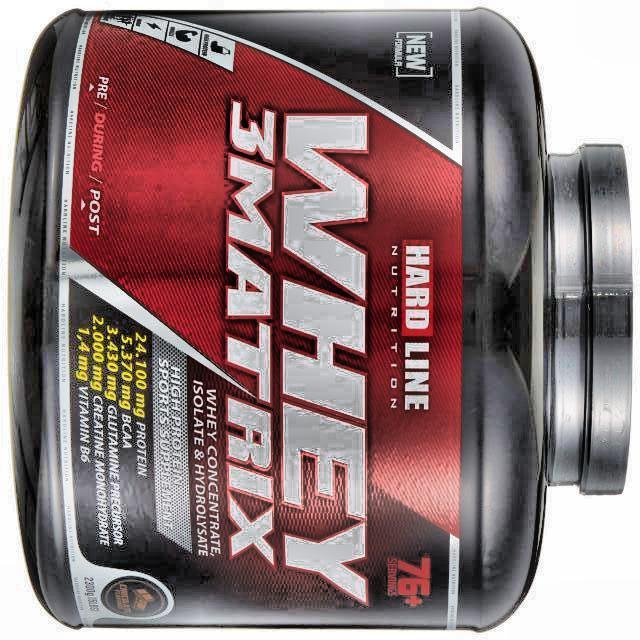plastic: (9, 8, 633, 630)
